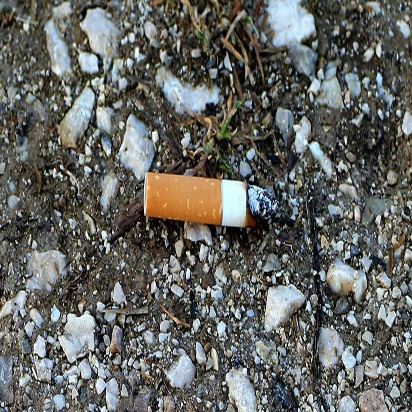cigarette: (133, 169, 269, 232)
